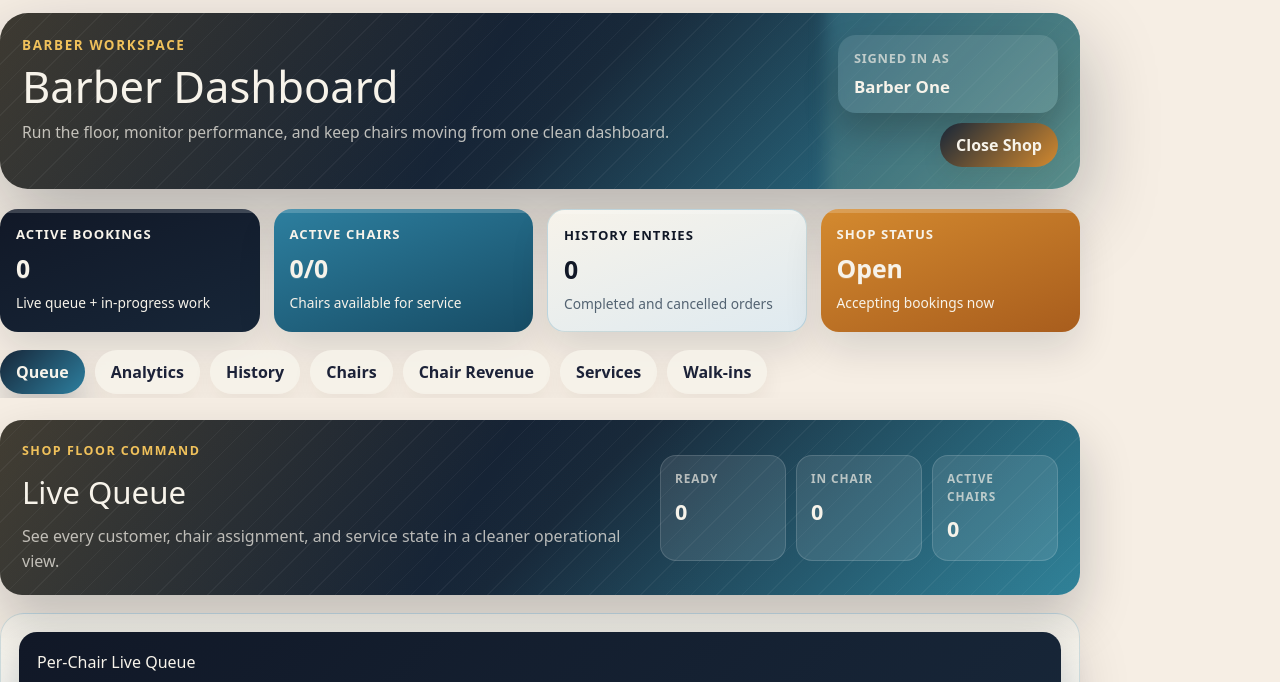
Test case: BarberDashboard navigation › reuses the shared date filters in the Chairs tab and renders the zero-activity state
Click the button "Chairs". click: x=351, y=372
box: [310,350,393,394]
(page scrolled)
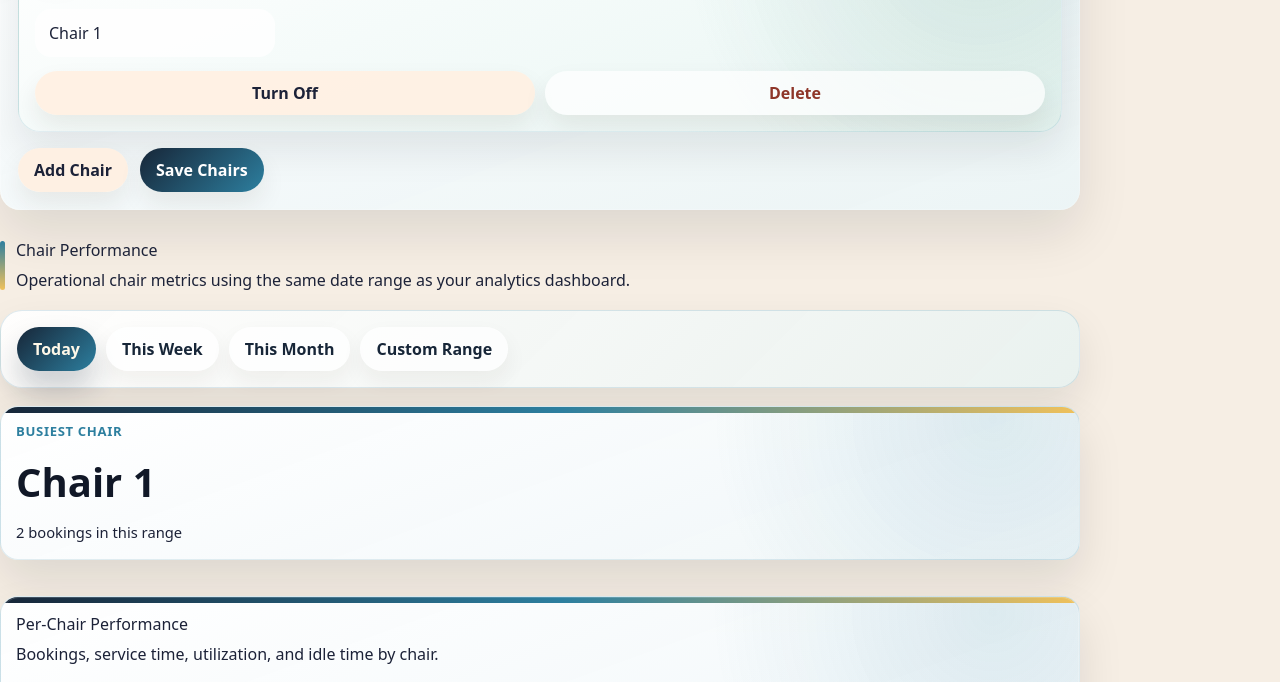
Check: the text "Busiest Chair" is shown, box [16,422,122,440]
Check: the text "Chair 1" below "Busiest Chair" is shown, box [16,454,156,509]
Click the button "Custom Range". click: x=434, y=349
box: [360,327,508,371]
(page scrolled)
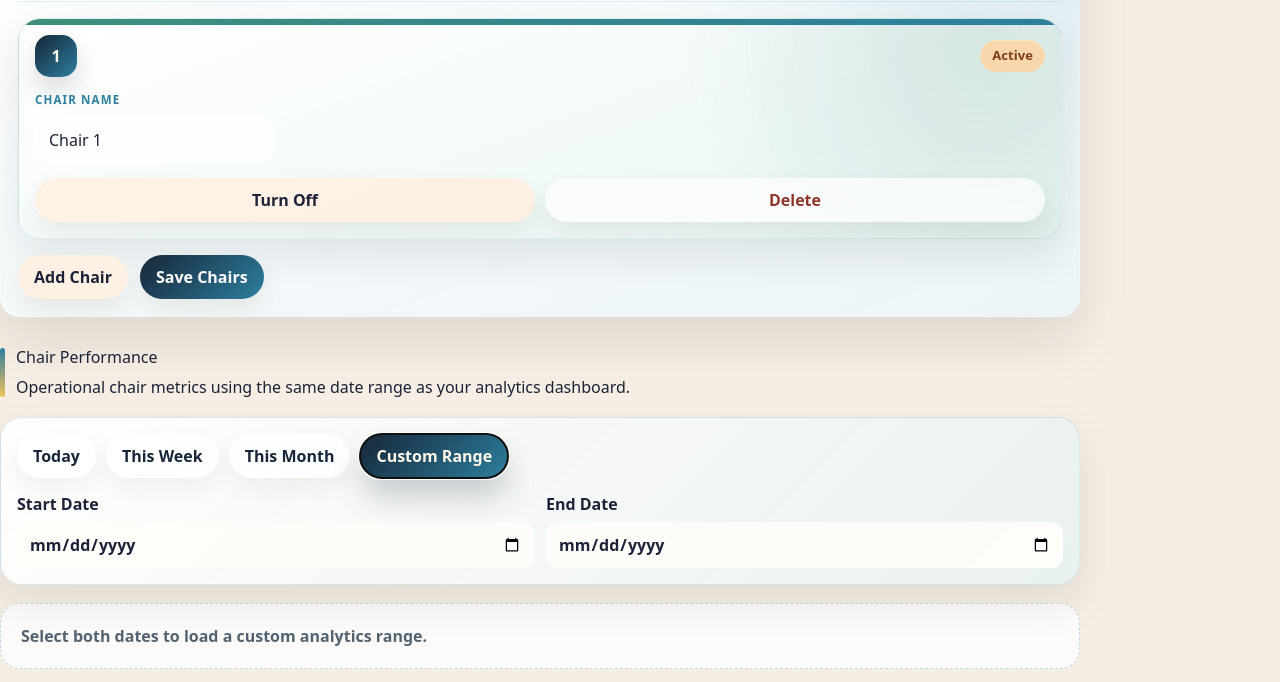
Check: the text "Select both dates to load a custom analytics range." is shown, box [0,603,1080,669]
Type "2026-05-01" into the date field named "Analytics start date". click: x=276, y=545
box: [17,522,534,568]
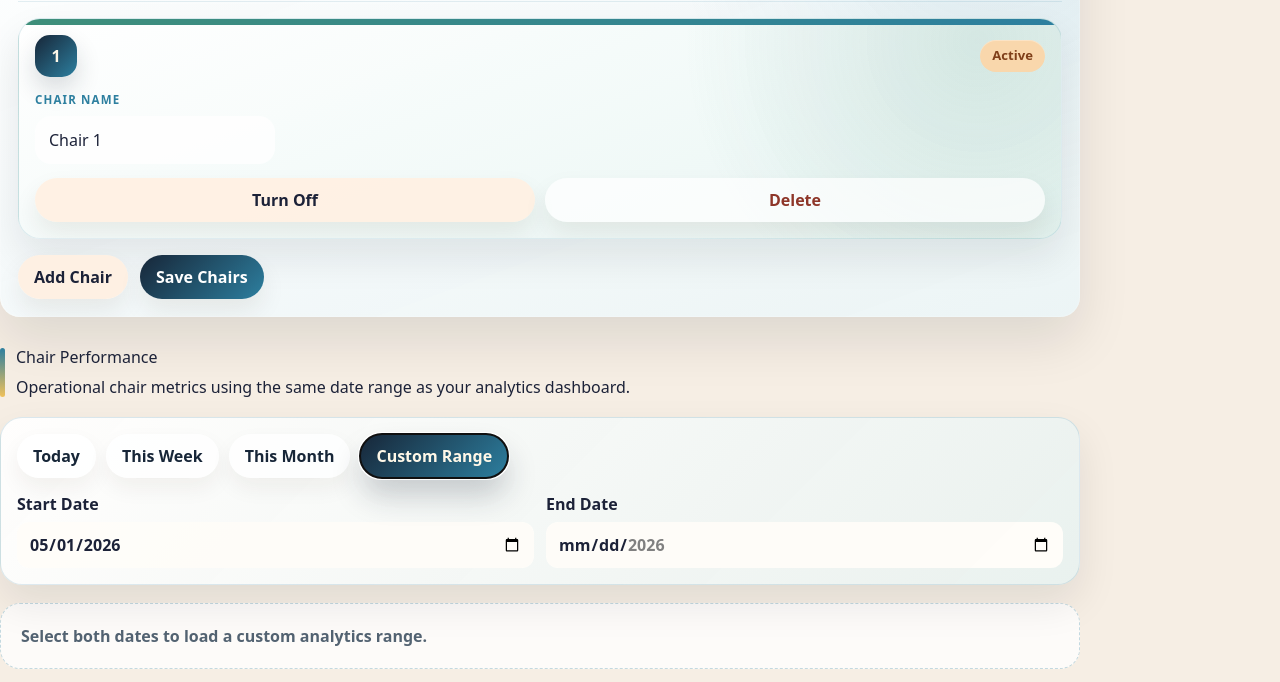
Type "2026-05-02" into the date field named "Analytics end date". click: x=804, y=545
box: [546,522,1063,568]
(page scrolled)
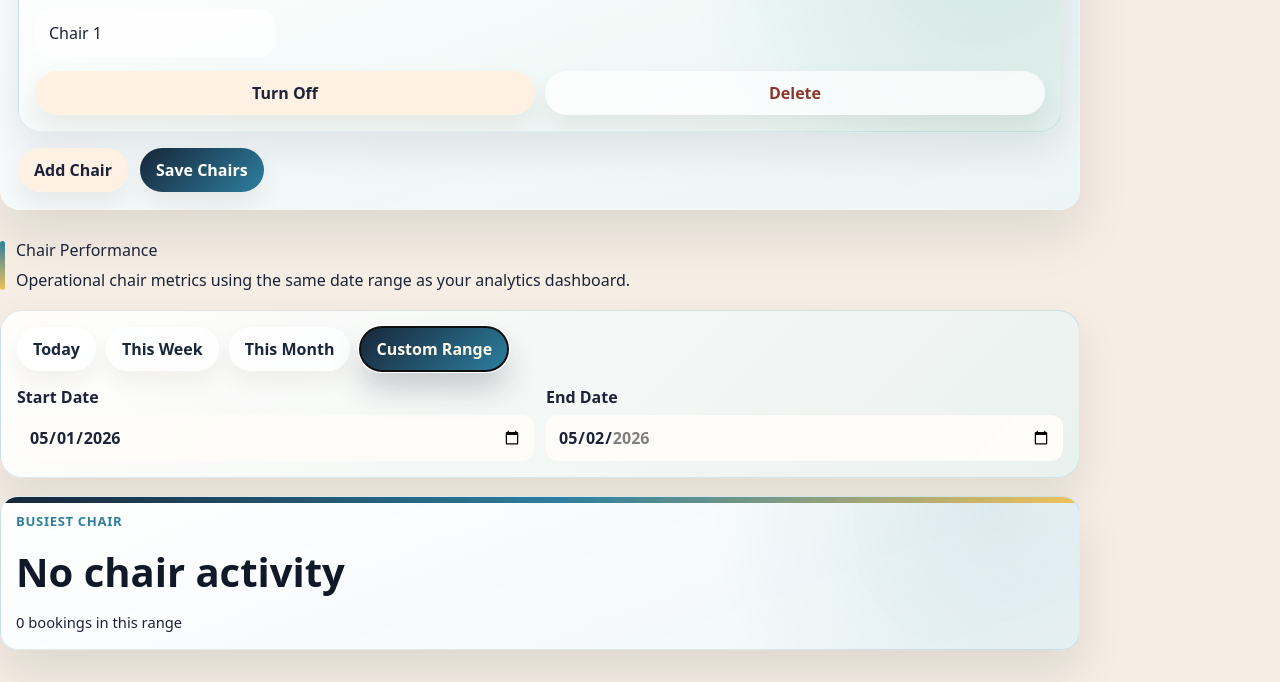
Check: the text "No chair activity" is shown, box [16,544,345,599]
Check: the text "0 bookings in this range" is shown, box [16,612,182,632]
